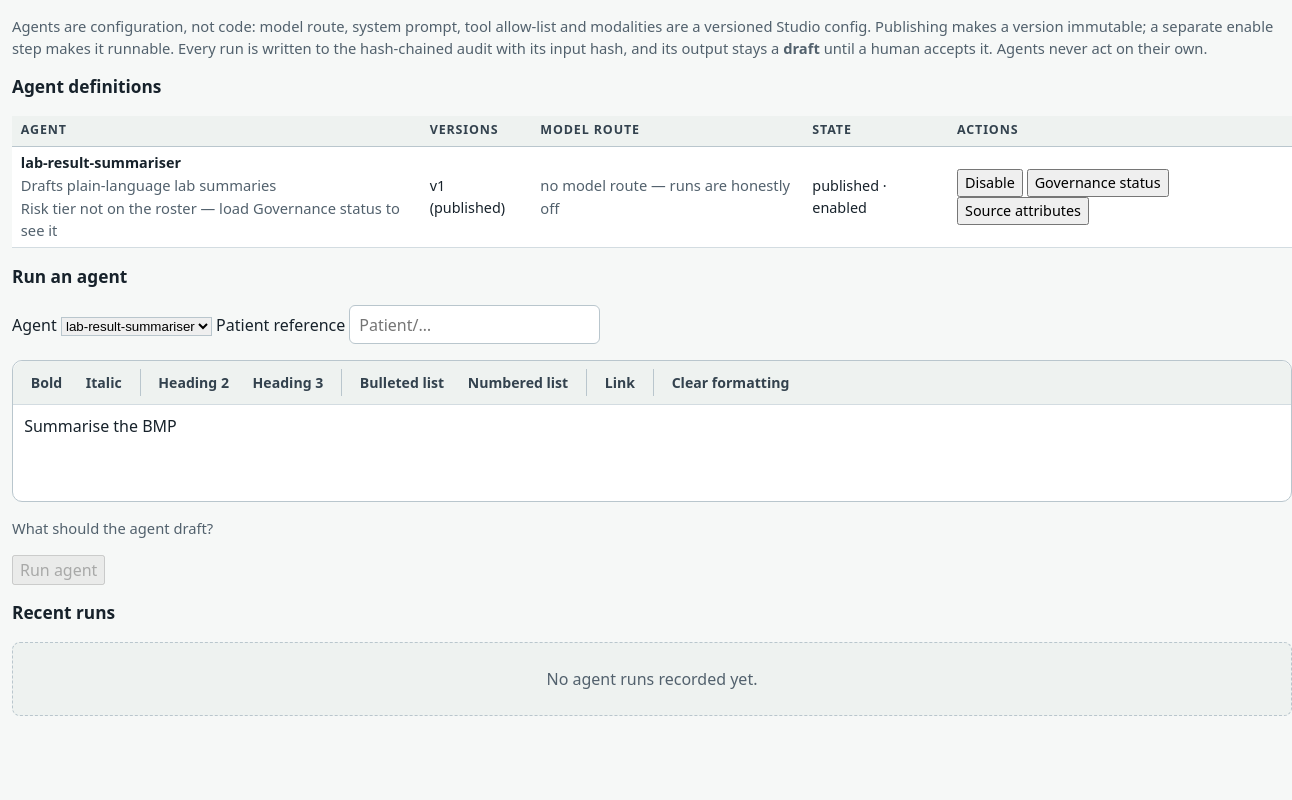
Agents (ADK) tab › runs an enabled agent and shows the honest no-model 503 verbatim
The image size is (1292, 800).
Clear the field named "Prompt": (100, 426) [24, 415, 177, 437]
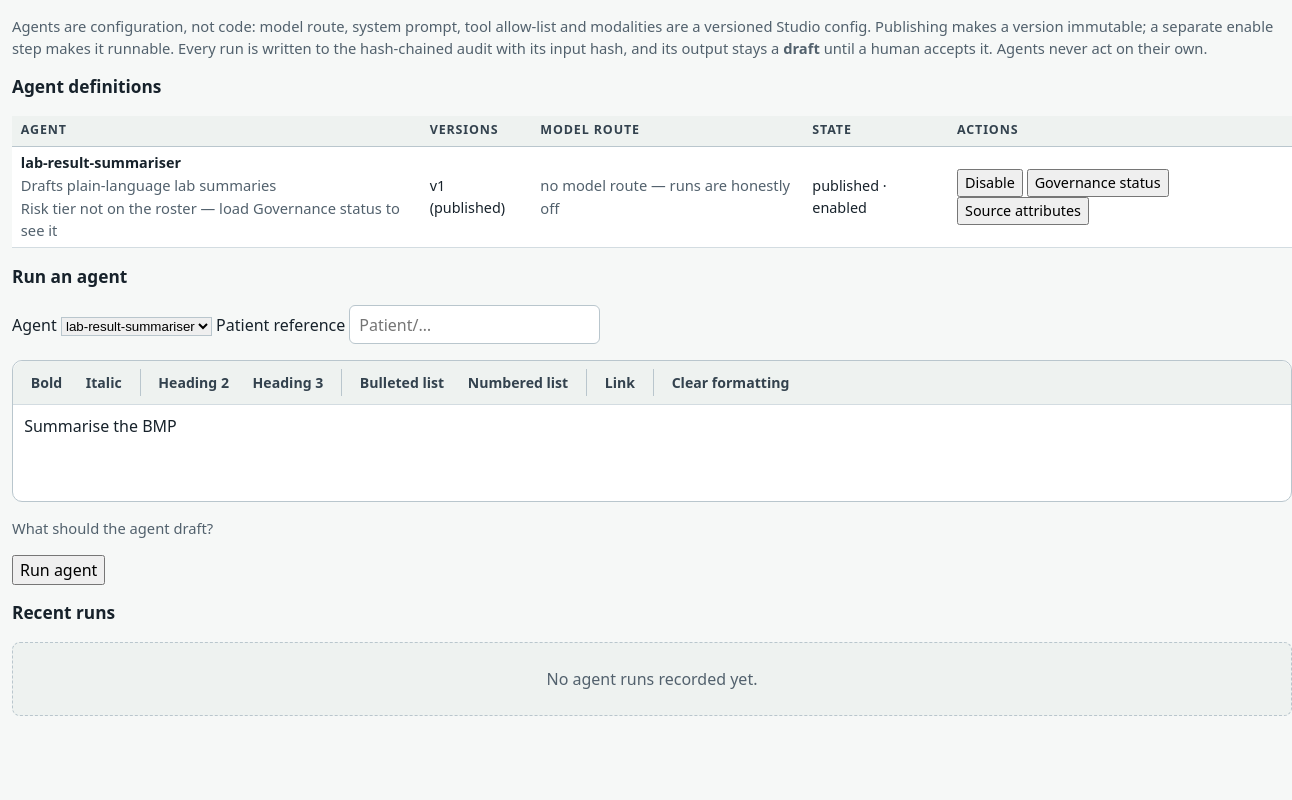
Click the button "Run agent": (59, 570) [12, 555, 105, 585]
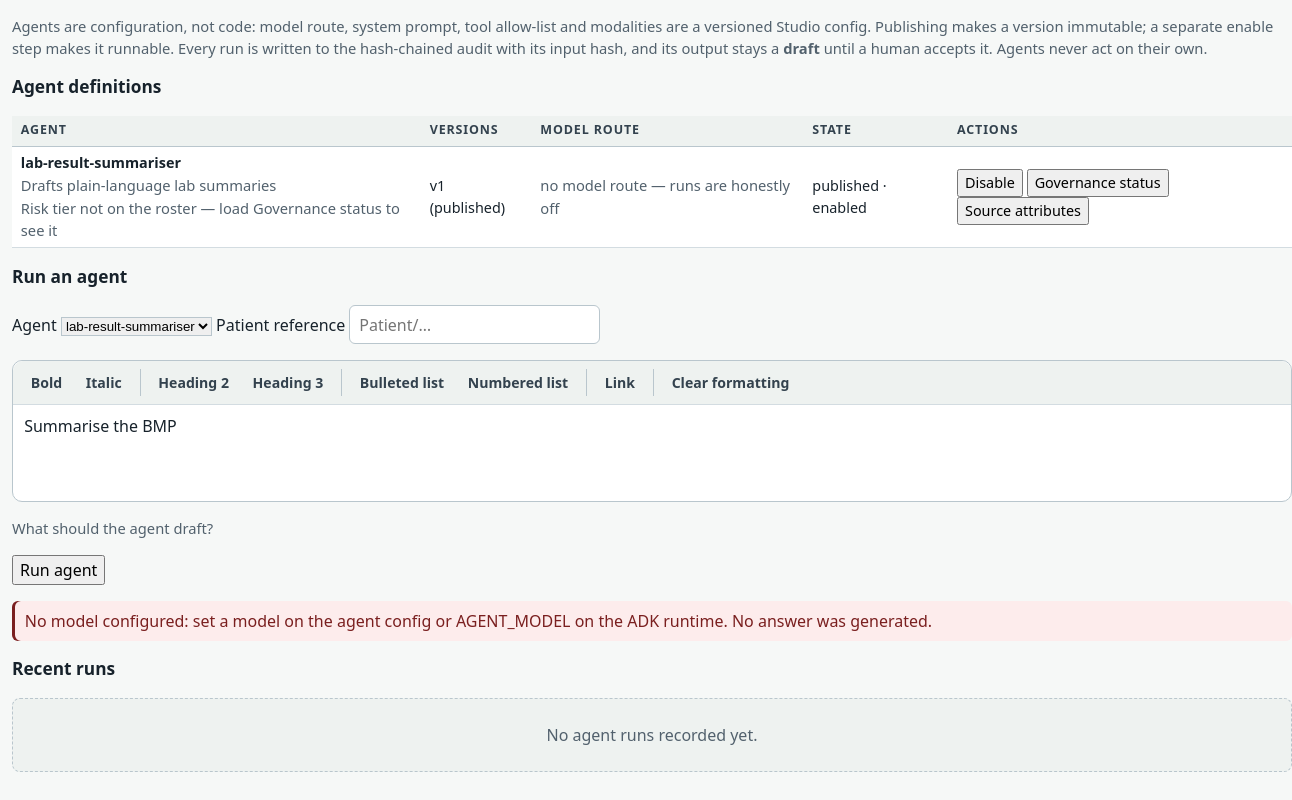
Expected: the text "No answer was generated" is shown, [25, 610, 932, 632]
